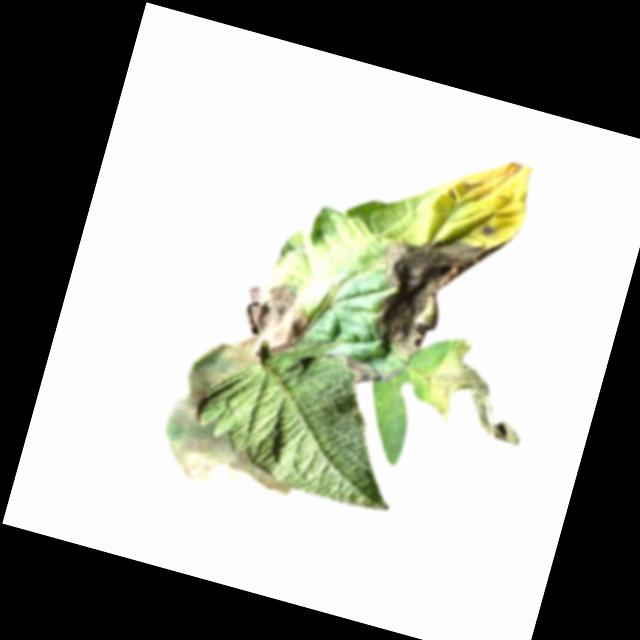Late_blight: (356, 219, 501, 376), (152, 392, 310, 507), (416, 331, 545, 448), (226, 270, 320, 365), (180, 333, 258, 408), (335, 351, 407, 395), (476, 222, 500, 239)
healthy: (182, 323, 425, 517)
